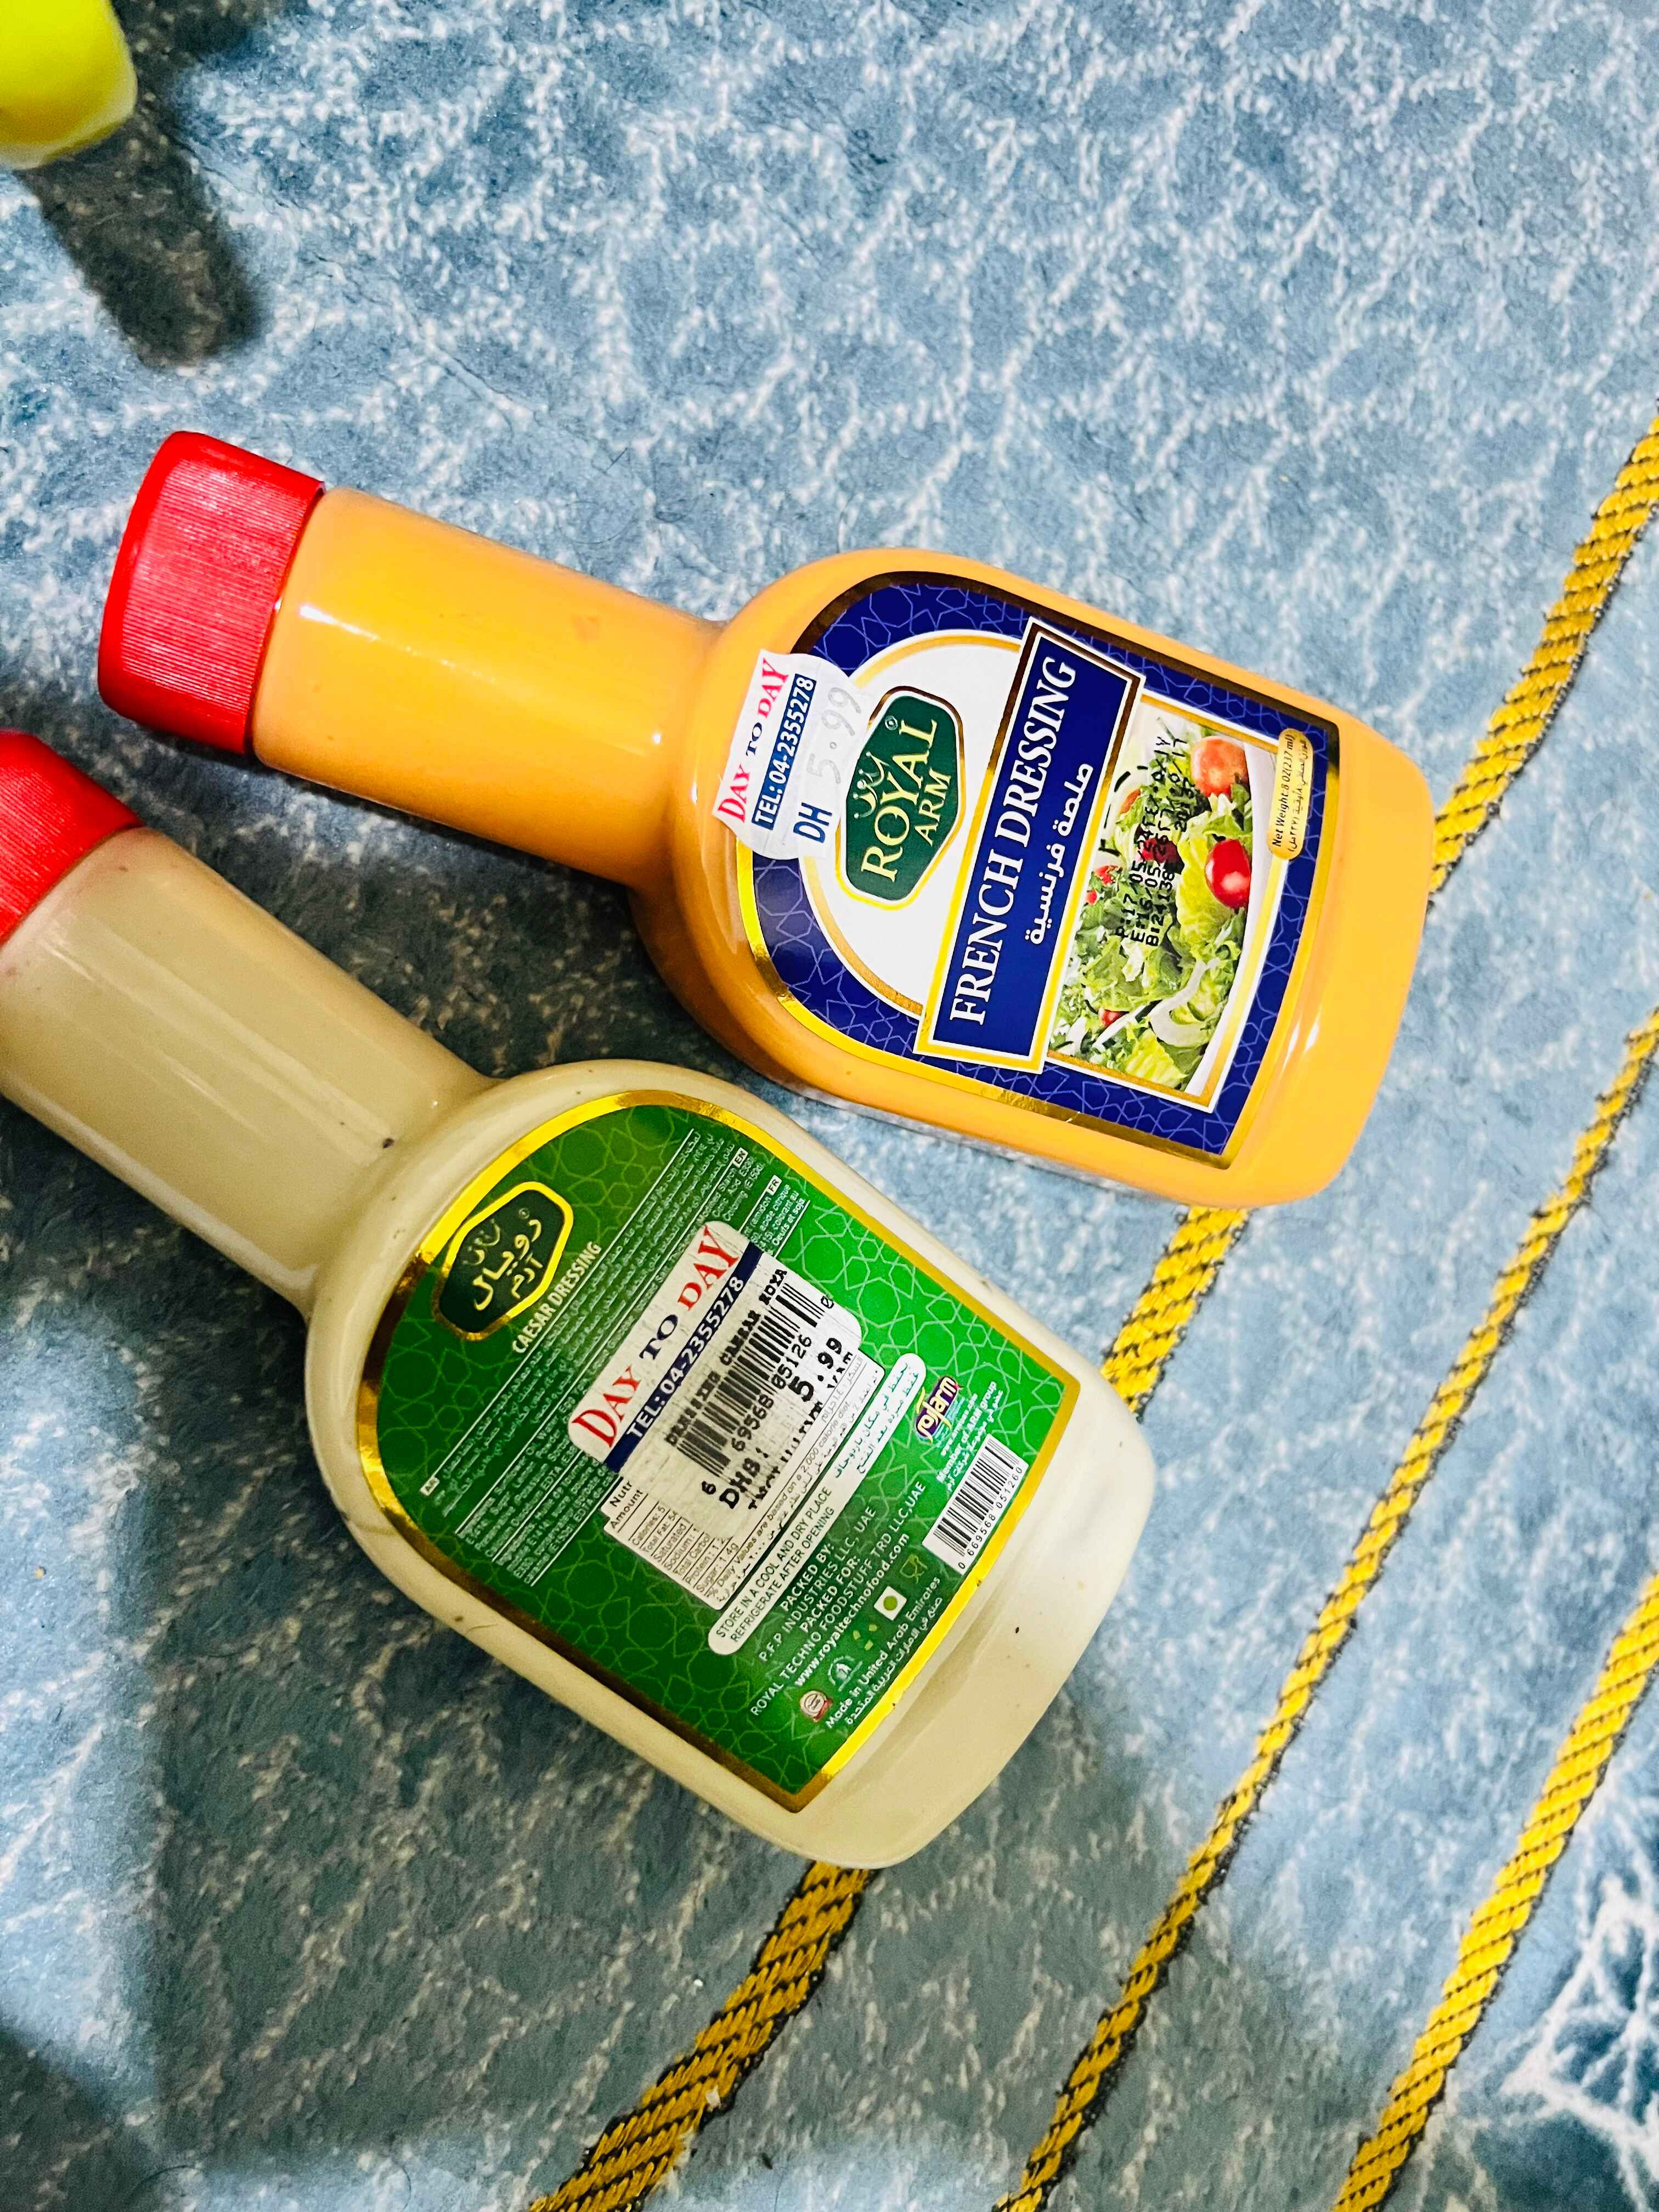PriceTagBig: (551, 1223, 863, 1545)
PriceTagSmall: (697, 646, 875, 876)
